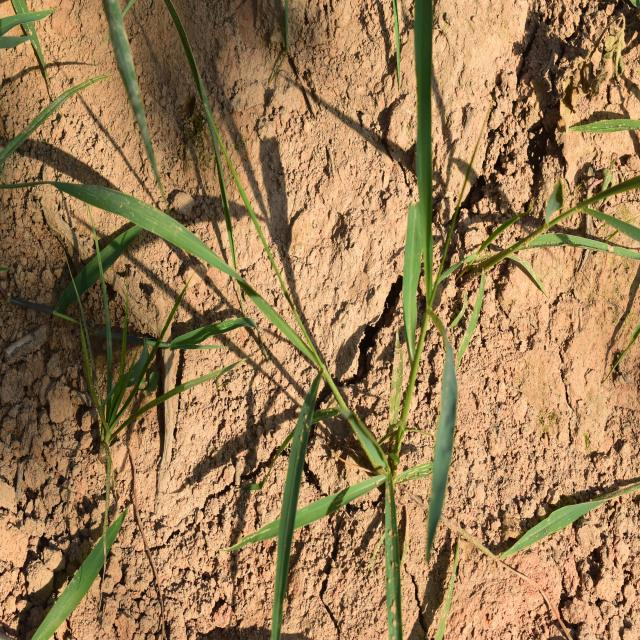green_foxtail: (82, 153, 366, 563), (391, 46, 478, 560)
